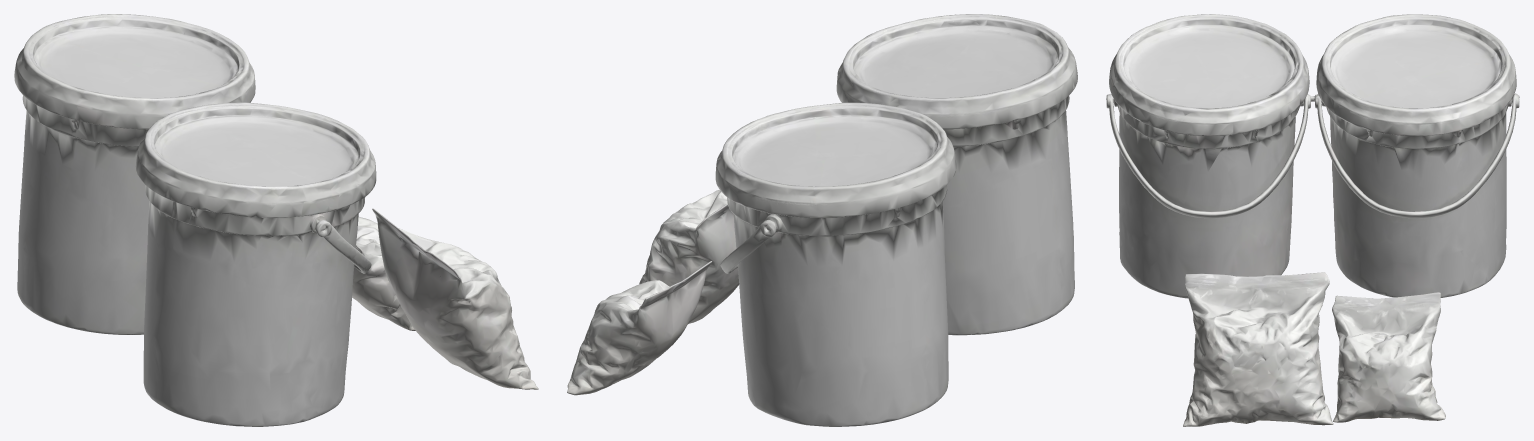
File: yhacgrout-2101.glb
3 views of the same model, side by side, from view 1: azimuth 30°, elevation 25°; view 2: azimuth 150°, elevation 25°; view 3: azimuth 270°, elevation 25° (orthographic). The views are drawn at different scales.
Parts seen in each view (by area): view 1: tripo_node_cdecd7b4-1098-44df-bd83-17b54cf5d7b1; view 2: tripo_node_cdecd7b4-1098-44df-bd83-17b54cf5d7b1; view 3: tripo_node_cdecd7b4-1098-44df-bd83-17b54cf5d7b1.
Boxes of the visible parts, x1,y1,x2,y2 form: tripo_node_cdecd7b4-1098-44df-bd83-17b54cf5d7b1: (14, 14, 538, 426); tripo_node_cdecd7b4-1098-44df-bd83-17b54cf5d7b1: (567, 14, 1077, 426); tripo_node_cdecd7b4-1098-44df-bd83-17b54cf5d7b1: (1106, 14, 1519, 426).
Bounding box in the file's own units: 0.8991 × 0.7005 × 0.9998.
Materials: 1 (1 with a texture image).
